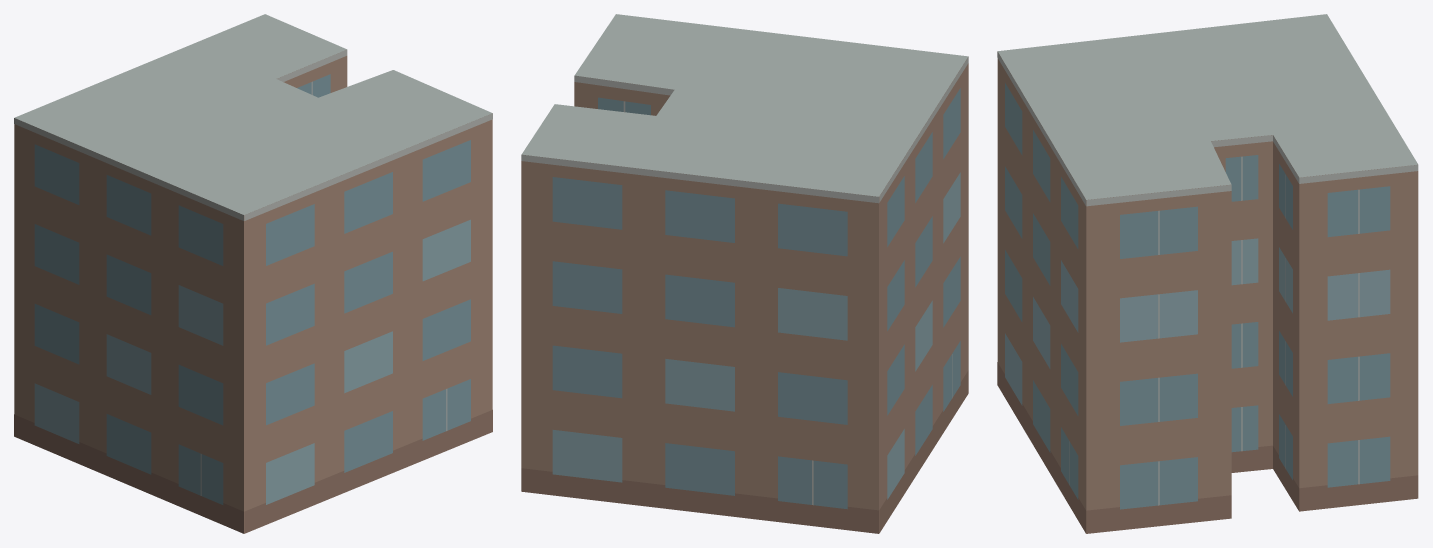
File: survey-upis-32693618.glb
3 renders of one model, left to right at view 1: azimuth 30°, elevation 25°; view 2: azimuth 150°, elevation 25°; view 3: azimuth 270°, elevation 25°, orthographic. The views are drawn at different scales.
Parts seen in each view (by area): view 1: survey-upis-32693618.tmp; view 2: survey-upis-32693618.tmp; view 3: survey-upis-32693618.tmp.
Boxes of the visible parts, box(x1,y1,x2,y2) form: survey-upis-32693618.tmp: box(14, 14, 492, 533); survey-upis-32693618.tmp: box(521, 14, 968, 533); survey-upis-32693618.tmp: box(997, 14, 1418, 533).
Size of the model in its own units: 15.24 by 12.75 by 14.58.
